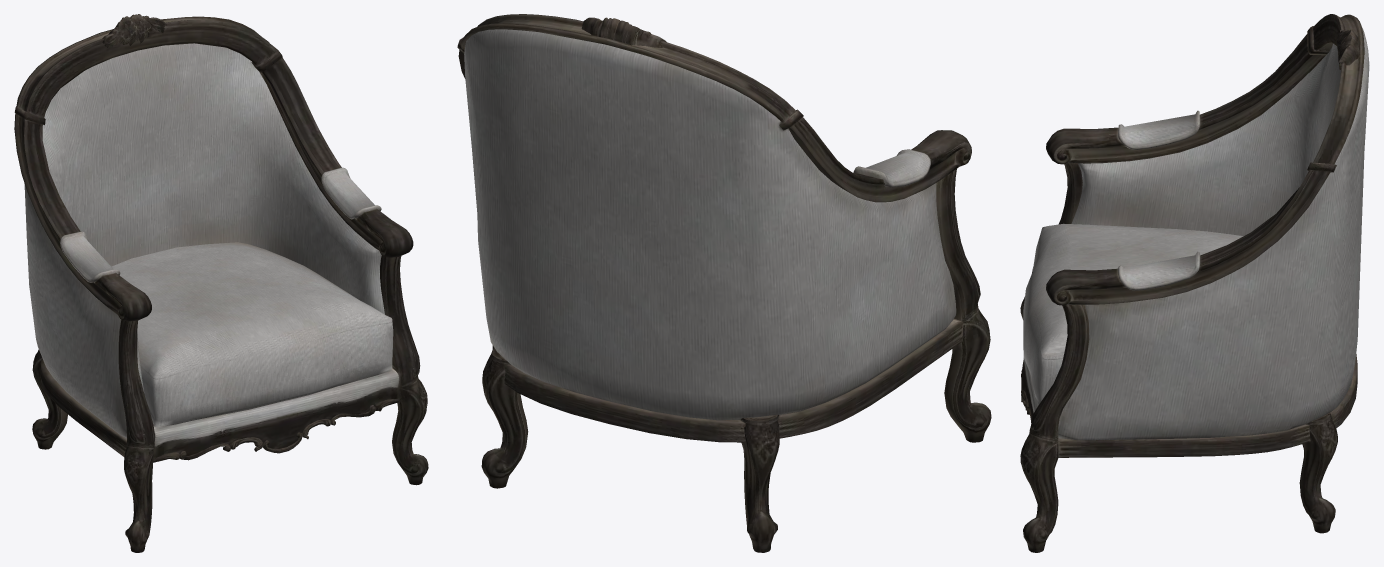
Rendered from armchair_01.glb.
3 views of the same model, side by side, from view 1: azimuth 30°, elevation 25°; view 2: azimuth 150°, elevation 25°; view 3: azimuth 270°, elevation 25° (orthographic). The views are drawn at different scales.
Parts seen in each view (by area): view 1: ArmChair_01; view 2: ArmChair_01; view 3: ArmChair_01.
Boxes of the visible parts, x1,y1,x2,y2 form: ArmChair_01: [14, 14, 428, 552]; ArmChair_01: [457, 14, 991, 552]; ArmChair_01: [1020, 14, 1369, 552].
Size of the model in its own units: 0.8485 by 1.07 by 0.7658.
1 material, 1 textured.
